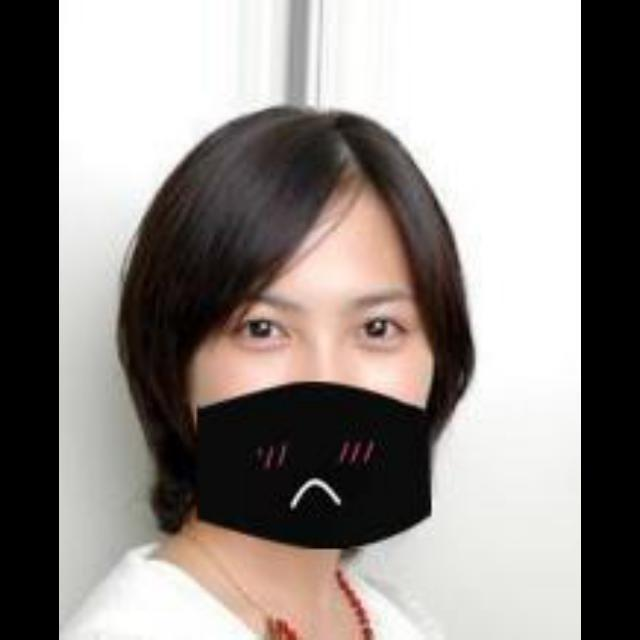suspicion: (163, 150, 474, 528)
